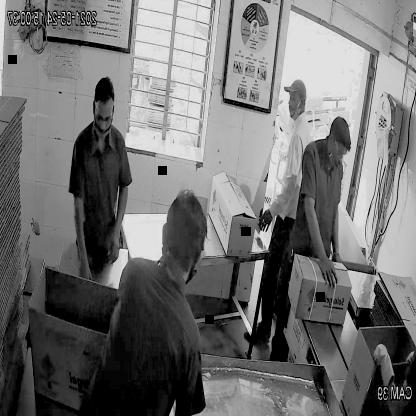goggles: (91, 106, 115, 129)
